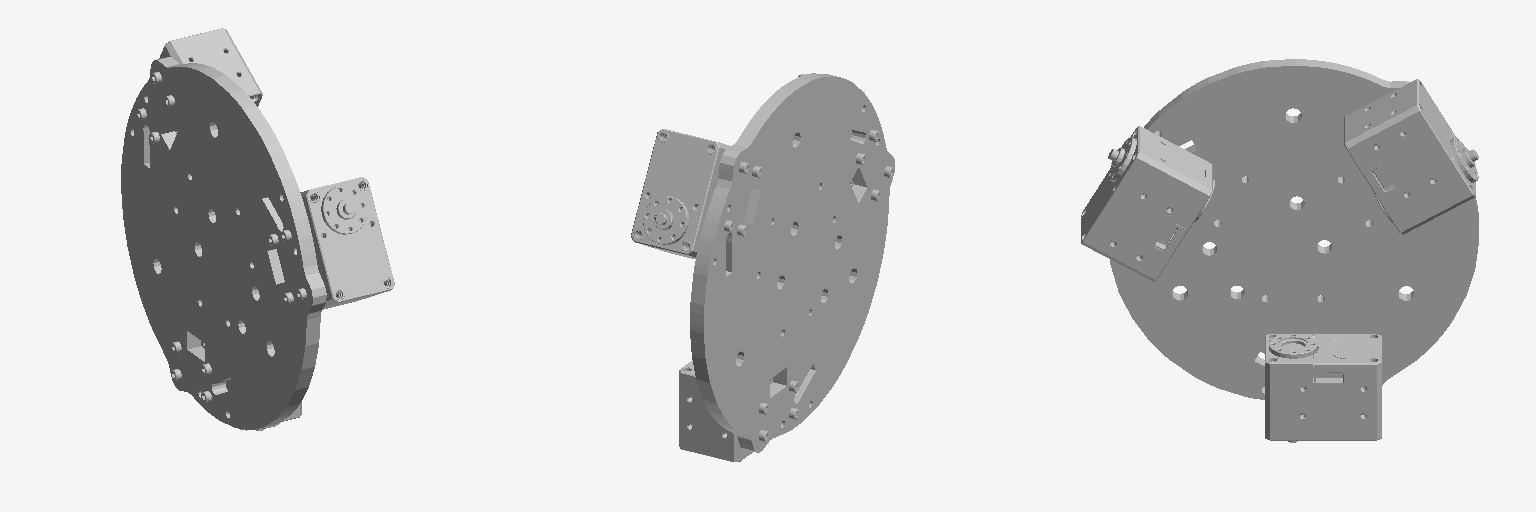
3 renders of one model, left to right at view 1: azimuth 30°, elevation 25°; view 2: azimuth 150°, elevation 25°; view 3: azimuth 270°, elevation 25°, orthographic.
Parts seen in each view (by area): view 1: off; view 2: off; view 3: off.
Part boxes in pixels (x1,y1,x2,y2): off: (121, 28, 394, 430); off: (631, 73, 894, 461); off: (1081, 59, 1478, 442).
Bounding box in the file's own units: 0.0373 × 0.1575 × 0.1582.